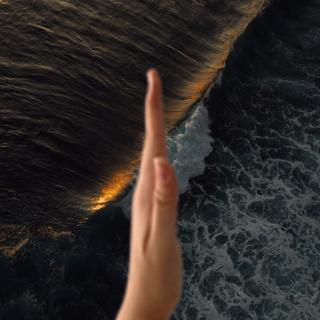Right: (113, 65, 203, 312)
